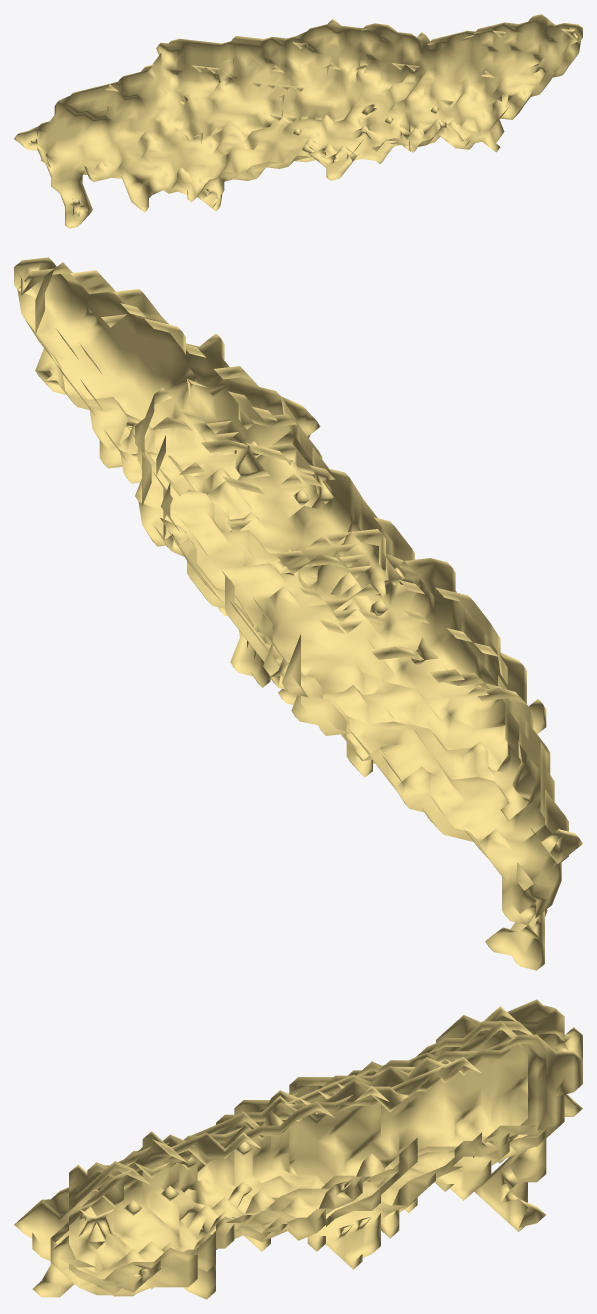
The model's file is osteocyte_122.glb.
3 renders of one model, top to bottom at view 1: azimuth 30°, elevation 25°; view 2: azimuth 150°, elevation 25°; view 3: azimuth 270°, elevation 25°, orthographic. The views are drawn at different scales.
Visible parts, largest first — view 1: osteocyte_122; view 2: osteocyte_122; view 3: osteocyte_122.
Part boxes in pixels (left/top/right/bottom): osteocyte_122: left=14, top=14, right=582, bottom=228; osteocyte_122: left=14, top=257, right=582, bottom=970; osteocyte_122: left=14, top=999, right=582, bottom=1299.
Size of the model in its own units: 23.59 by 10.59 by 14.93.
